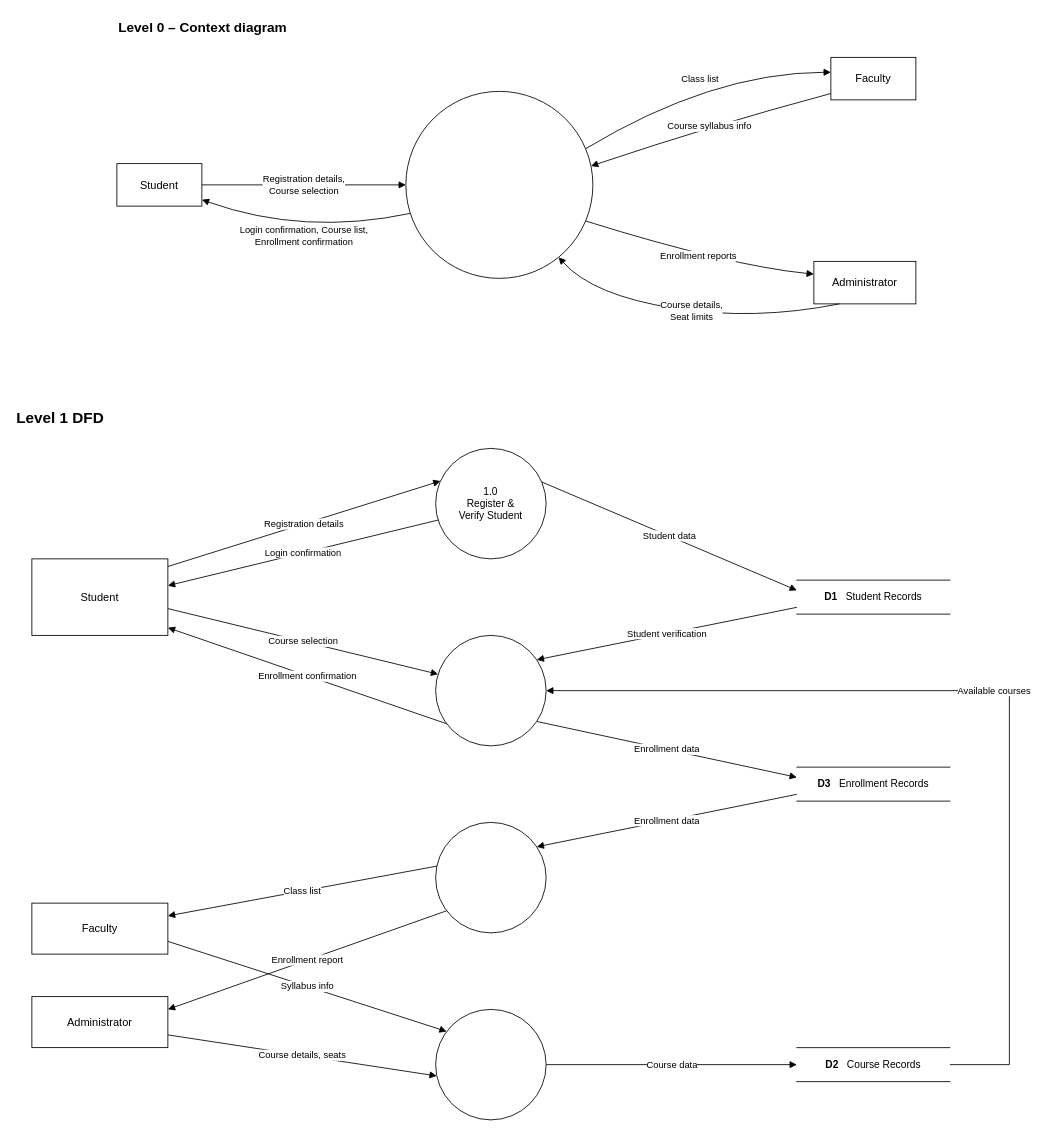
Some shapes in this 1045 by 1135 pixel diagram are drawn without their labels. Here are the shapes that lost their labels. From the top down, the box of each, then its label:
(405, 91, 593, 278): 0 Course Registration System
(435, 635, 546, 746): 3.0 Course Enrollment
(435, 822, 546, 933): 4.0 Generate Reports
(435, 1009, 546, 1120): 2.0 Manage Courses
